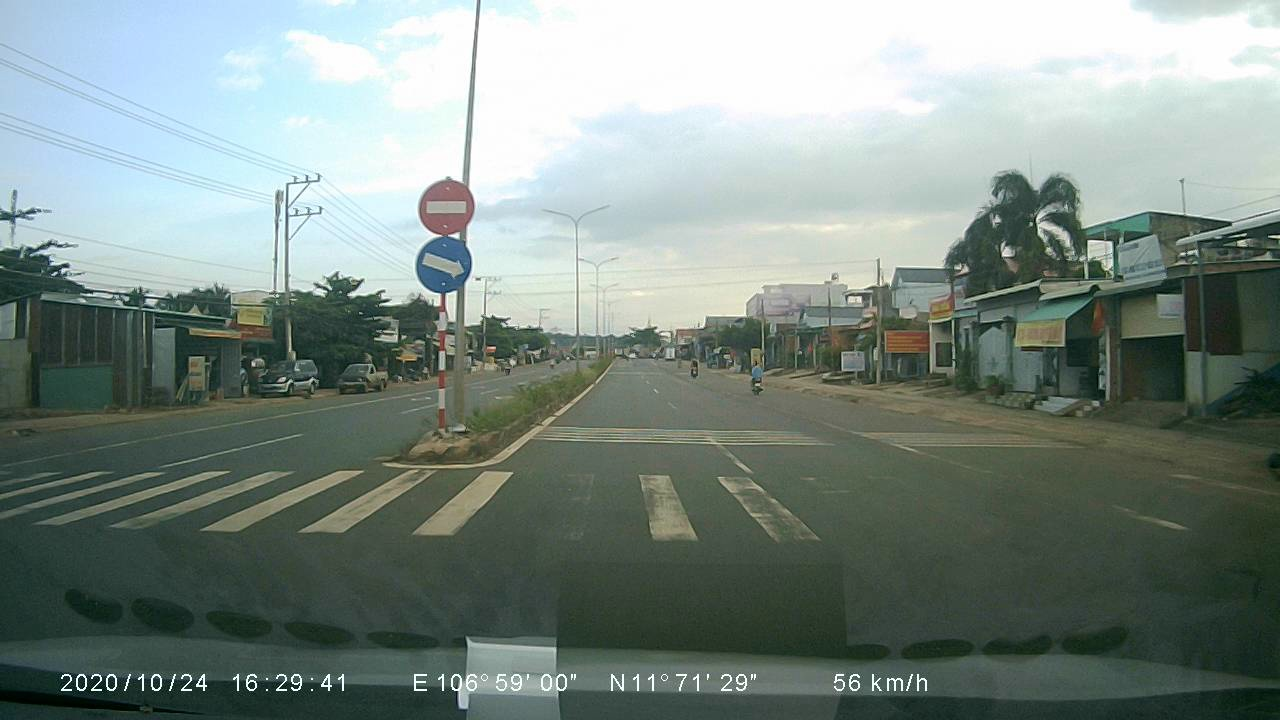Cam di nguoc chieu: (416, 178, 476, 235)
Huong di phai re phai: (414, 236, 477, 294)
